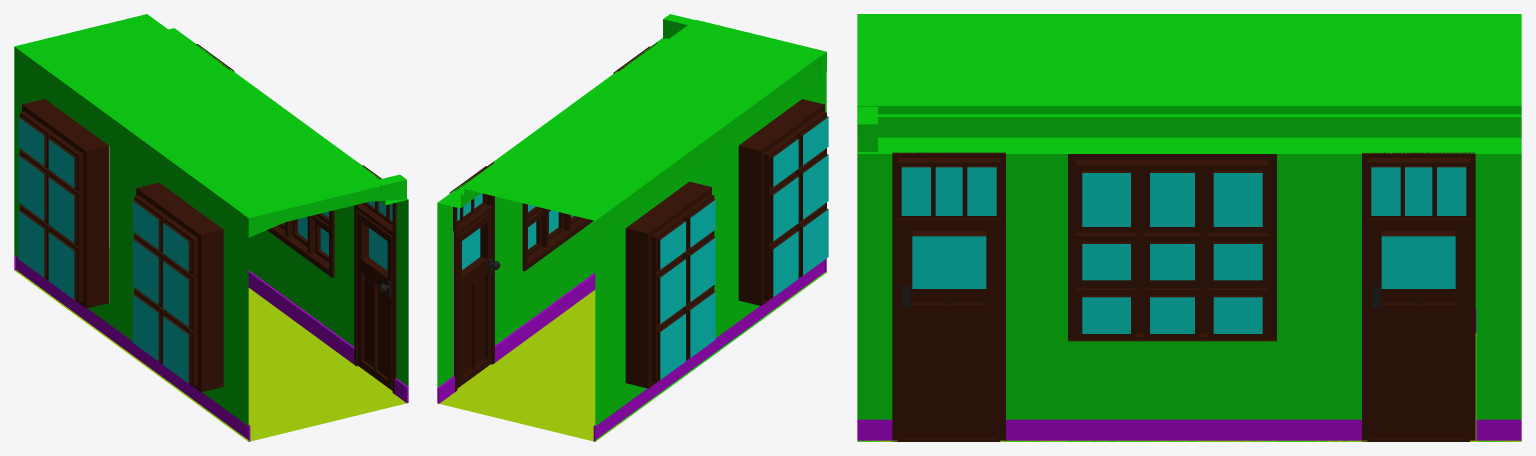
File: school_road.fbx
3 renders of one model, left to right at view 1: azimuth 30°, elevation 25°; view 2: azimuth 150°, elevation 25°; view 3: azimuth 270°, elevation 25°, orthographic. The views are drawn at different scales.
Parts seen in each view (by area): view 1: Box001; view 2: Box001; view 3: Box001.
Part boxes in pixels (x1,y1,x2,y2): Box001: (14,14,408,441); Box001: (437,14,828,441); Box001: (857,14,1521,441).
Bounding box in the file's own units: 73.14 × 78.49 × 149.
